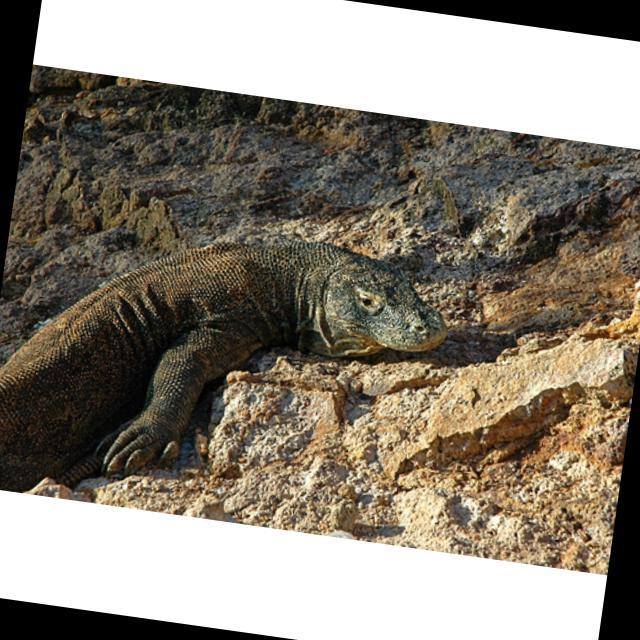KomodoDragon: (0, 193, 458, 544)
